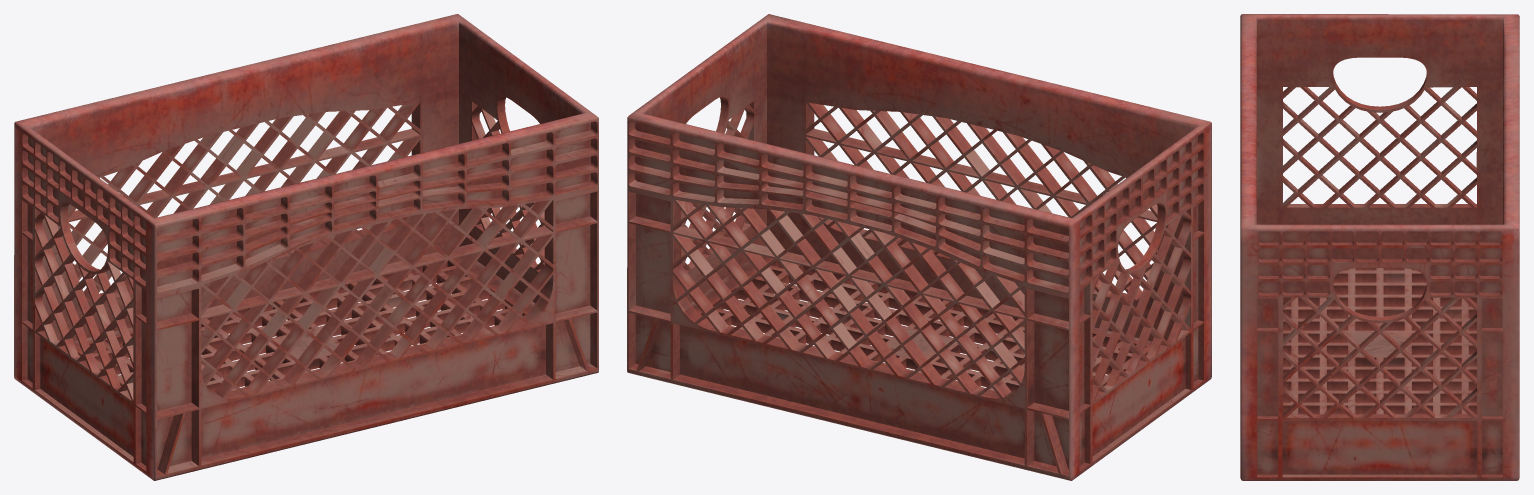
Rendered from plastic_crate_03.glb.
3 renders of one model, left to right at view 1: azimuth 30°, elevation 25°; view 2: azimuth 150°, elevation 25°; view 3: azimuth 270°, elevation 25°, orthographic.
Visible parts, largest first — view 1: plastic_crate_03; view 2: plastic_crate_03; view 3: plastic_crate_03.
Part boxes in pixels (x1,y1,x2,y2): plastic_crate_03: [14, 14, 598, 480]; plastic_crate_03: [627, 14, 1211, 480]; plastic_crate_03: [1240, 14, 1519, 480].
Size of the model in its own units: 0.4811 by 0.2659 by 0.265.
1 material, 1 textured.
